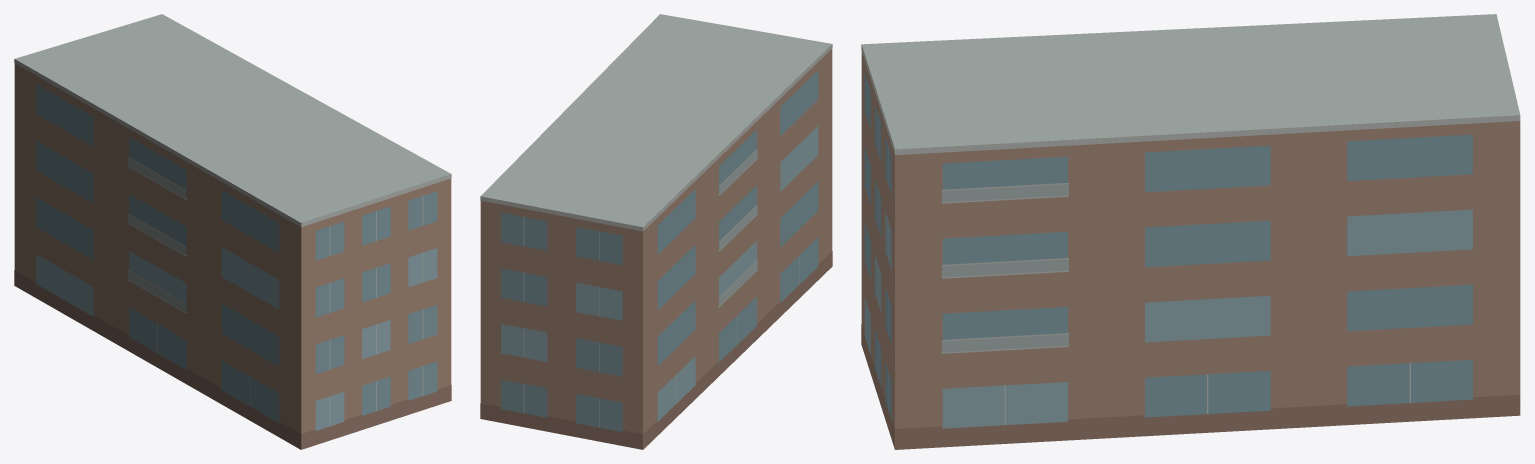
The model's file is survey-upis-32929399.glb.
3 views of the same model, side by side, from view 1: azimuth 30°, elevation 25°; view 2: azimuth 150°, elevation 25°; view 3: azimuth 270°, elevation 25° (orthographic). The views are drawn at different scales.
Visible parts, largest first — view 1: survey-upis-32929399.tmp; view 2: survey-upis-32929399.tmp; view 3: survey-upis-32929399.tmp.
Boxes of the visible parts, x1,y1,x2,y2 form: survey-upis-32929399.tmp: (14,14,451,449); survey-upis-32929399.tmp: (480,14,832,449); survey-upis-32929399.tmp: (861,14,1520,449).
Size of the model in its own units: 12.39 by 12.8 by 25.46.
